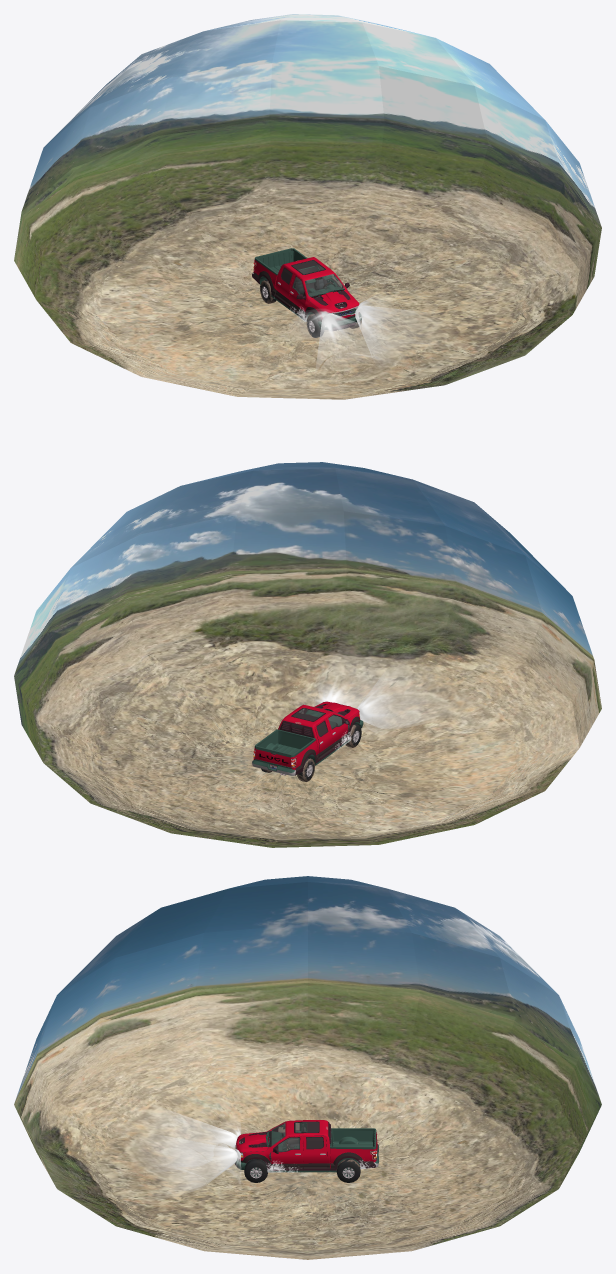
Rendered from truck_carveup_8.glb.
3 views of the same model, one above another, from view 1: azimuth 30°, elevation 25°; view 2: azimuth 150°, elevation 25°; view 3: azimuth 270°, elevation 25° (orthographic).
Visible parts, largest first — view 1: env_Sphere.005, 600_headlight_gang_high, 001a_body_painted, 600_headlight_gang_low, 002_body_atlas, 601_headlight_floor_gang, 012a_hood_painted_body, 500_glass_windshield; view 2: env_Sphere.005, 600_headlight_gang_high, 002_body_atlas, 600_headlight_gang_low, 001a_body_painted; view 3: env_Sphere.005, 600_headlight_gang_high, 002_body_atlas, 001a_body_painted, 002a_door_driver_painted_body, 004a_doors_back_driver_painted_body, 600_headlight_gang_low.
Boxes of the visible parts, x1,y1,x2,y2 form: env_Sphere.005: (14, 14, 601, 399); 600_headlight_gang_high: (316, 305, 431, 369); 001a_body_painted: (252, 257, 359, 321); 600_headlight_gang_low: (293, 294, 386, 338); 002_body_atlas: (252, 248, 361, 330); 601_headlight_floor_gang: (322, 342, 422, 367); 012a_hood_painted_body: (310, 289, 359, 312); 500_glass_windshield: (305, 274, 344, 296); env_Sphere.005: (14, 462, 601, 847); 600_headlight_gang_high: (318, 652, 438, 728); 002_body_atlas: (252, 708, 363, 775); 600_headlight_gang_low: (297, 685, 389, 734); 001a_body_painted: (253, 704, 360, 771); env_Sphere.005: (14, 876, 601, 1259); 600_headlight_gang_high: (140, 1108, 237, 1194); 002_body_atlas: (234, 1121, 378, 1172); 001a_body_painted: (235, 1120, 376, 1168); 002a_door_driver_painted_body: (270, 1135, 302, 1168); 004a_doors_back_driver_painted_body: (303, 1135, 326, 1168); 600_headlight_gang_low: (220, 1118, 240, 1183).
Size of what is drawn, in the model's own units: 18.48 by 9.49 by 18.48.
Materials: 33 (12 with a texture image).
